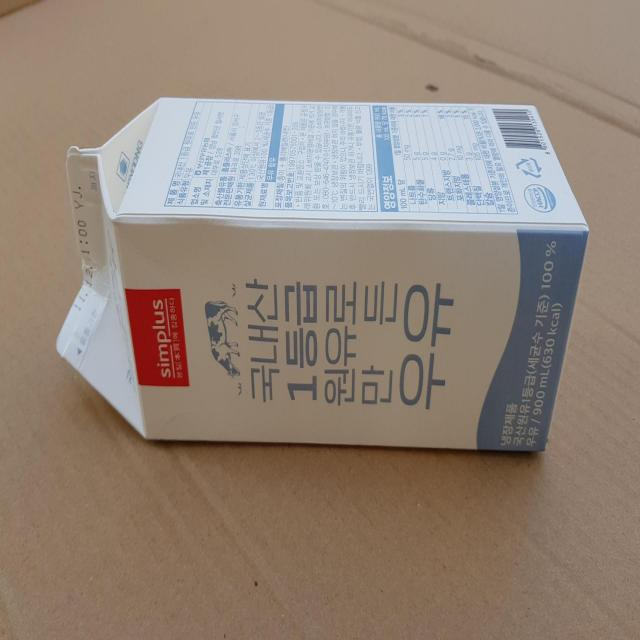paperpack: (56, 97, 589, 451)
